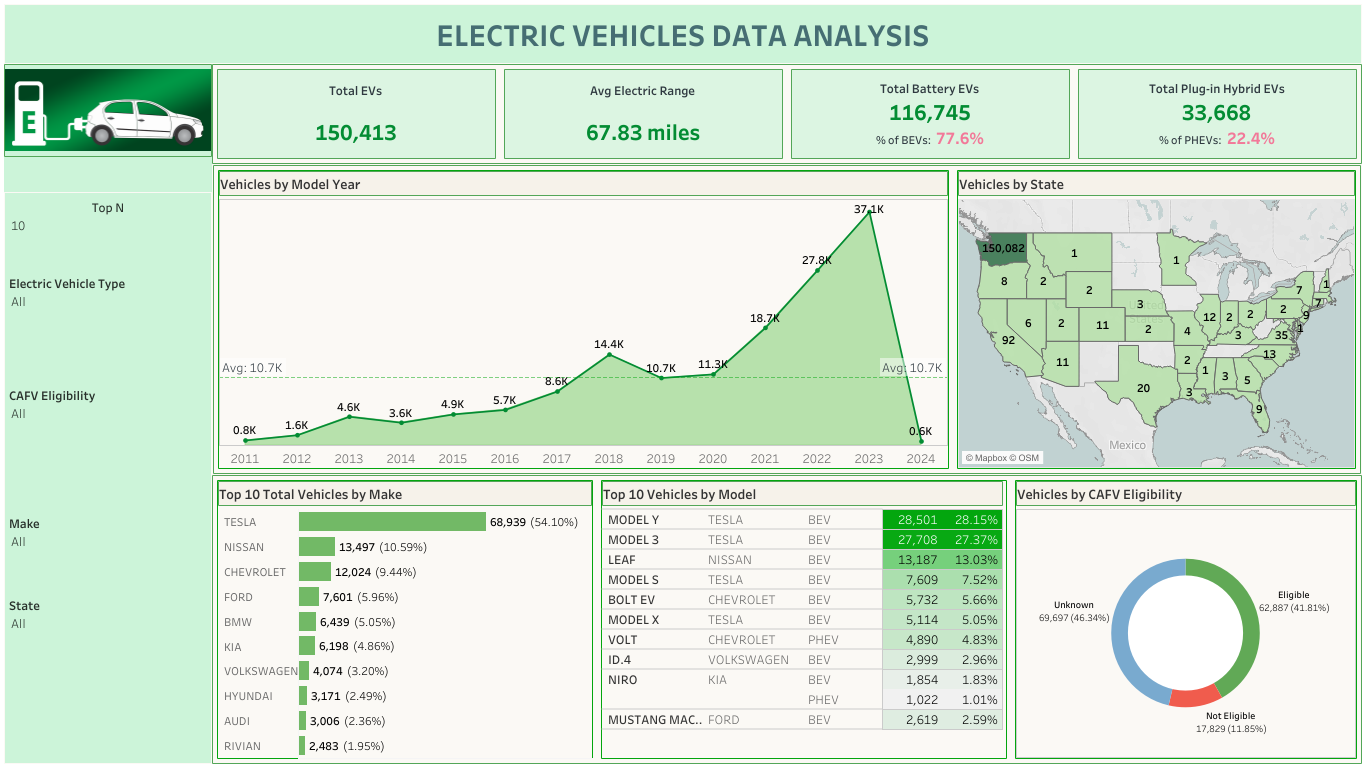

The dashboard page shown, as its layout file describes it:
{"tool":"tableau","page":{"name":"Dashboard 1","canvas":[1366,768],"ordinal":0},"visuals":[{"type":"title","box":[4,4,1358,60]},{"type":"image","param":"Image/electric-car-2728131_960_720.png","box":[4,64,208,93]},{"type":"worksheet","title":"TotEVs","mark":"Automatic","box":[213,65,287,98]},{"type":"worksheet","title":"AvgElectricRange","mark":"Automatic","box":[500,65,287,98]},{"type":"worksheet","title":"TotalBEVs","mark":"Automatic","box":[787,65,287,98]},{"type":"worksheet","title":"TotalPHEVs","mark":"Automatic","box":[1074,65,287,98]},{"type":"blank","box":[4,157,208,35]},{"type":"worksheet","title":"Vehicles by Model Year","mark":"Area","rows":["Calculation_935059913421889536","Calculation_935059913421889536"],"cols":["Model Year"],"box":[214,166,739,307]},{"type":"worksheet","title":"Vehicles by State","mark":"Multipolygon","box":[953,166,407,307]},{"type":"parameter","param":"[Parameters].[Parameter 1]","box":[5,193,206,79]},{"type":"filter","title":"Top 10 Vehicles by Make","param":"[federated.0v9scsh13m689t197dnm91h77sr2].[none:Electric Vehicle Type:nk]","box":[5,272,206,112]},{"type":"filter","title":"Vehicles by CAFV Eligibility","param":"[federated.0v9scsh13m689t197dnm91h77sr2].[none:Clean Alternative Fuel Vehicle (C","box":[5,384,206,128]},{"type":"worksheet","title":"Top 10 Vehicles by Make","mark":"Automatic","rows":["Make"],"cols":["Calculation_935059913421889536"],"box":[213,476,384,287]},{"type":"worksheet","title":"Top 10 Vehicles by Model","mark":"Square","rows":["Model","Make","Electric Vehicle Type"],"box":[597,476,414,287]},{"type":"worksheet","title":"Vehicles by CAFV Eligibility","mark":"Pie","rows":["Calculation_668784585492205574","Calculation_668784585492205574"],"box":[1011,476,350,287]},{"type":"filter","title":"Top 10 Vehicles by Model","param":"[federated.0v9scsh13m689t197dnm91h77sr2].[none:Make:nk]","box":[5,512,206,82]},{"type":"filter","title":"Top 10 Vehicles by Make","param":"[federated.0v9scsh13m689t197dnm91h77sr2].[none:State:nk]","box":[5,594,206,60]}]}

Visuals, with their boxes in screenshot pixels (x1, y1, x2, y2), scaled from the page's 1366x768 canvas onto the 1365x767 screenshot:
title: bbox=(4, 4, 1361, 64)
image: bbox=(4, 64, 212, 157)
"TotEVs" worksheet: bbox=(213, 65, 500, 163)
"AvgElectricRange" worksheet: bbox=(500, 65, 786, 163)
"TotalBEVs" worksheet: bbox=(786, 65, 1073, 163)
"TotalPHEVs" worksheet: bbox=(1073, 65, 1360, 163)
blank: bbox=(4, 157, 212, 192)
"Vehicles by Model Year" worksheet (Area marks): bbox=(214, 166, 952, 472)
"Vehicles by State" worksheet (Multipolygon marks): bbox=(952, 166, 1359, 472)
parameter: bbox=(5, 193, 211, 272)
"Top 10 Vehicles by Make" filter: bbox=(5, 272, 211, 384)
"Vehicles by CAFV Eligibility" filter: bbox=(5, 384, 211, 511)
"Top 10 Vehicles by Make" worksheet: bbox=(213, 475, 597, 762)
"Top 10 Vehicles by Model" worksheet (Square marks): bbox=(597, 475, 1010, 762)
"Vehicles by CAFV Eligibility" worksheet (Pie marks): bbox=(1010, 475, 1360, 762)
"Top 10 Vehicles by Model" filter: bbox=(5, 511, 211, 593)
"Top 10 Vehicles by Make" filter: bbox=(5, 593, 211, 653)
